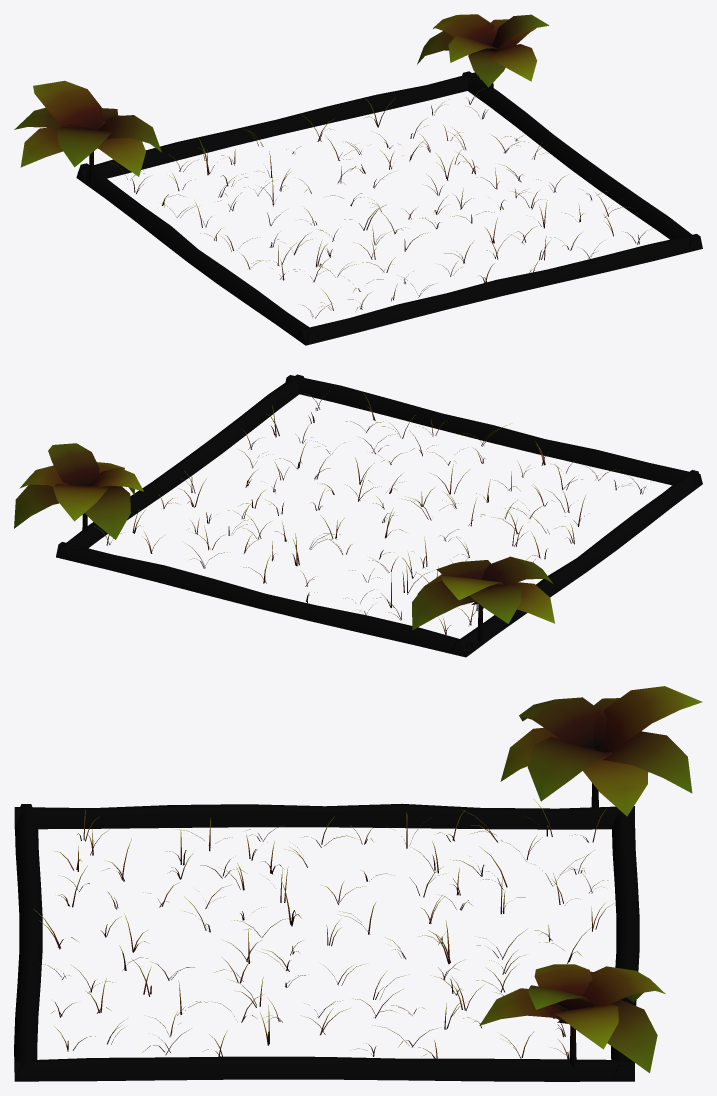
File: patch_paddy_grove_far.glb
3 renders of one model, top to bottom at view 1: azimuth 30°, elevation 25°; view 2: azimuth 150°, elevation 25°; view 3: azimuth 270°, elevation 25°, orthographic. The views are drawn at different scales.
Visible parts, largest first — view 1: patch_paddy_grove_far; view 2: patch_paddy_grove_far; view 3: patch_paddy_grove_far.
Boxes of the visible parts, bbox=[...] form: patch_paddy_grove_far: bbox=[14, 14, 702, 345]; patch_paddy_grove_far: bbox=[14, 374, 702, 657]; patch_paddy_grove_far: bbox=[14, 686, 702, 1081].
Size of the model in its own units: 15.56 by 2.46 by 13.33.
1 material, 1 textured.
